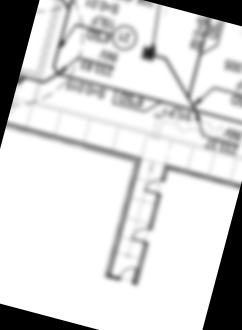door: (128, 223, 152, 245), (143, 175, 166, 197), (118, 263, 139, 286)
